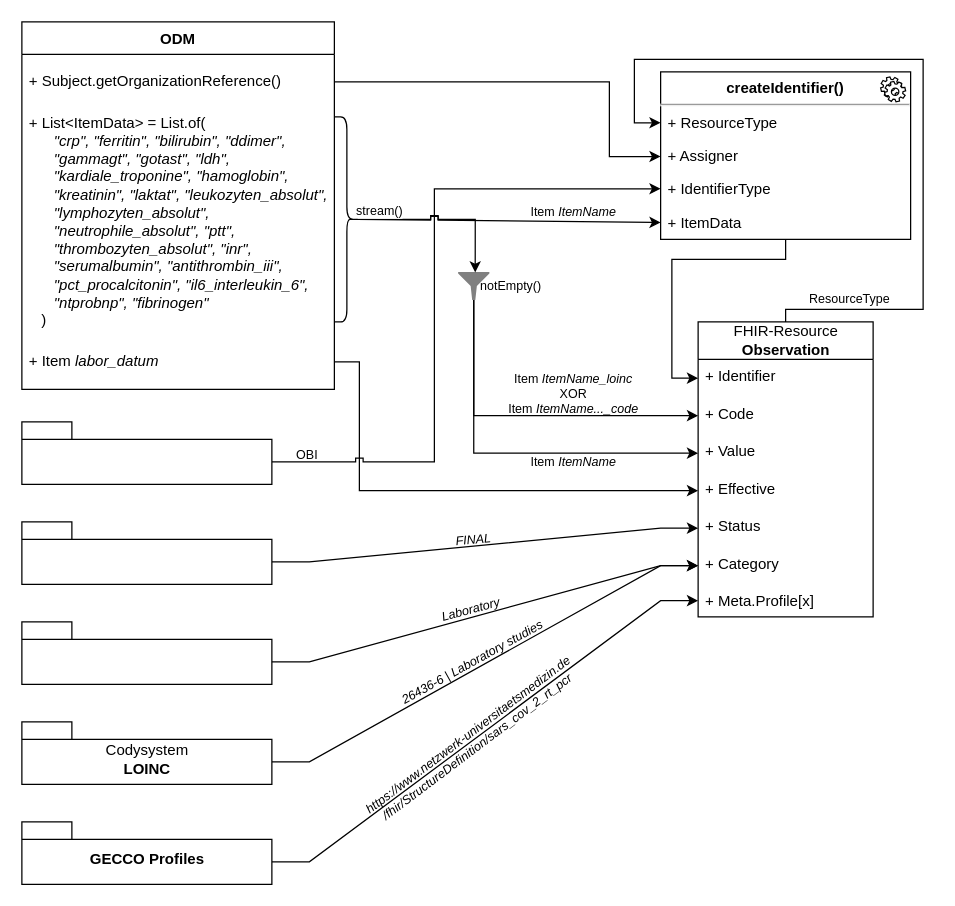
This 955x906 diagram has some shape labels left out. The centre of each missing label's shape, as x and y in pixels:
ValueSet IdentifierTypeCodes: the point at 146,452
ValueSet ObservationCategoryCodes: the point at 146,652
ValueSet ObservationStatus: the point at 146,552
